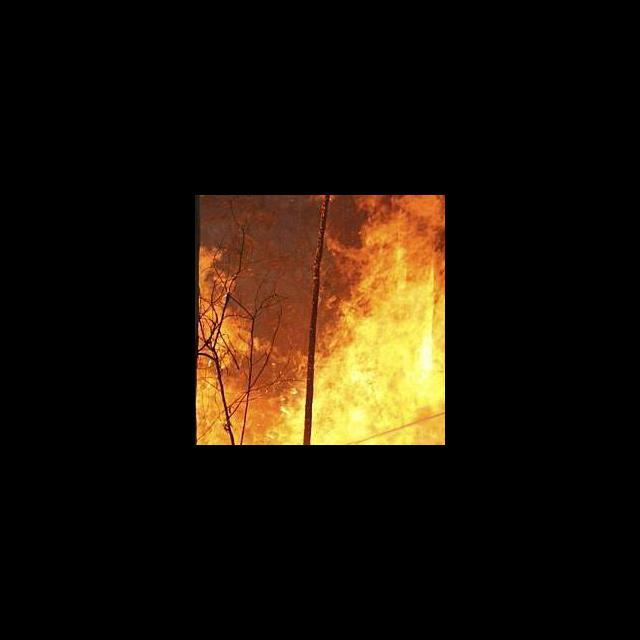Fire: (197, 195, 445, 444)
